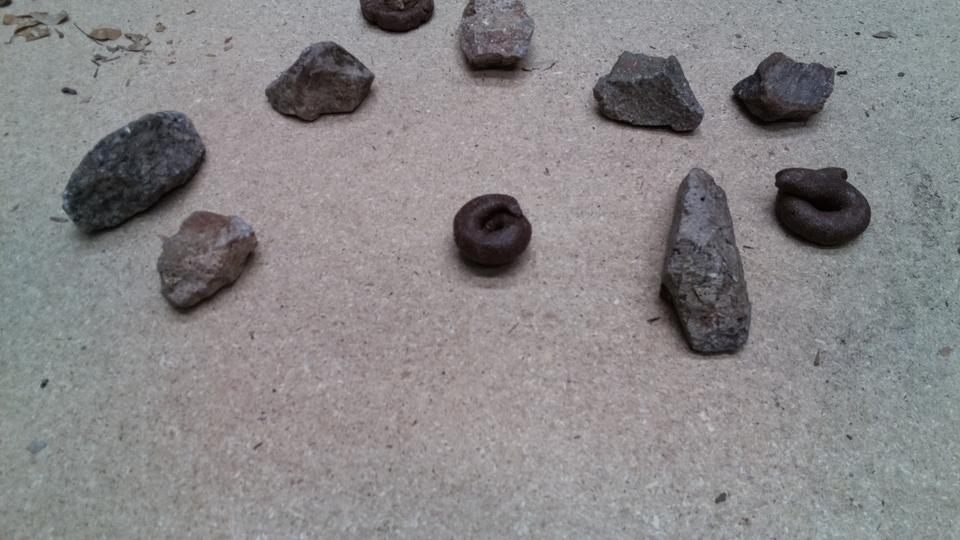poop: (518, 368, 628, 472), (119, 214, 233, 310), (471, 32, 556, 104)
